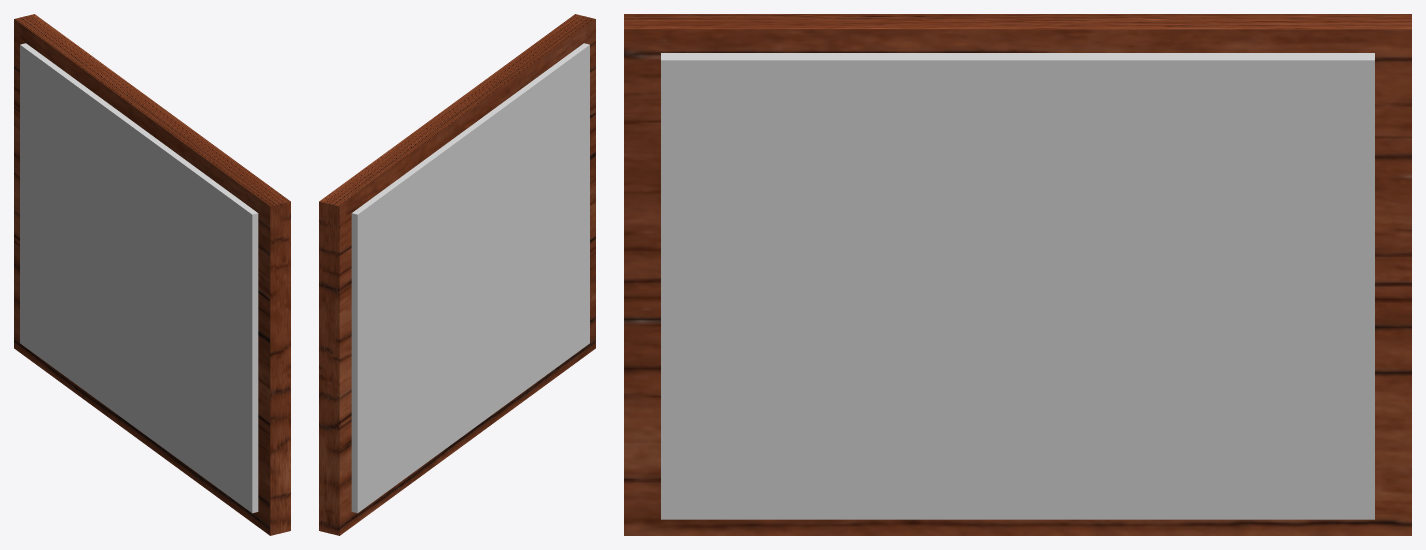
File: pinboard retextured.fbx
3 renders of one model, left to right at view 1: azimuth 30°, elevation 25°; view 2: azimuth 150°, elevation 25°; view 3: azimuth 270°, elevation 25°, orthographic. The views are drawn at different scales.
Visible parts, largest first — view 1: Cube.001, Cube; view 2: Cube.001, Cube; view 3: Cube.001, Cube.
Part boxes in pixels (<box>): Cube.001: <box>20,43,258,513</box>; Cube: <box>14,14,290,535</box>; Cube.001: <box>351,43,589,513</box>; Cube: <box>319,14,595,535</box>; Cube.001: <box>661,53,1374,519</box>; Cube: <box>624,14,1411,535</box>.
Bounding box in the file's own units: 23.11 × 200 × 282.
